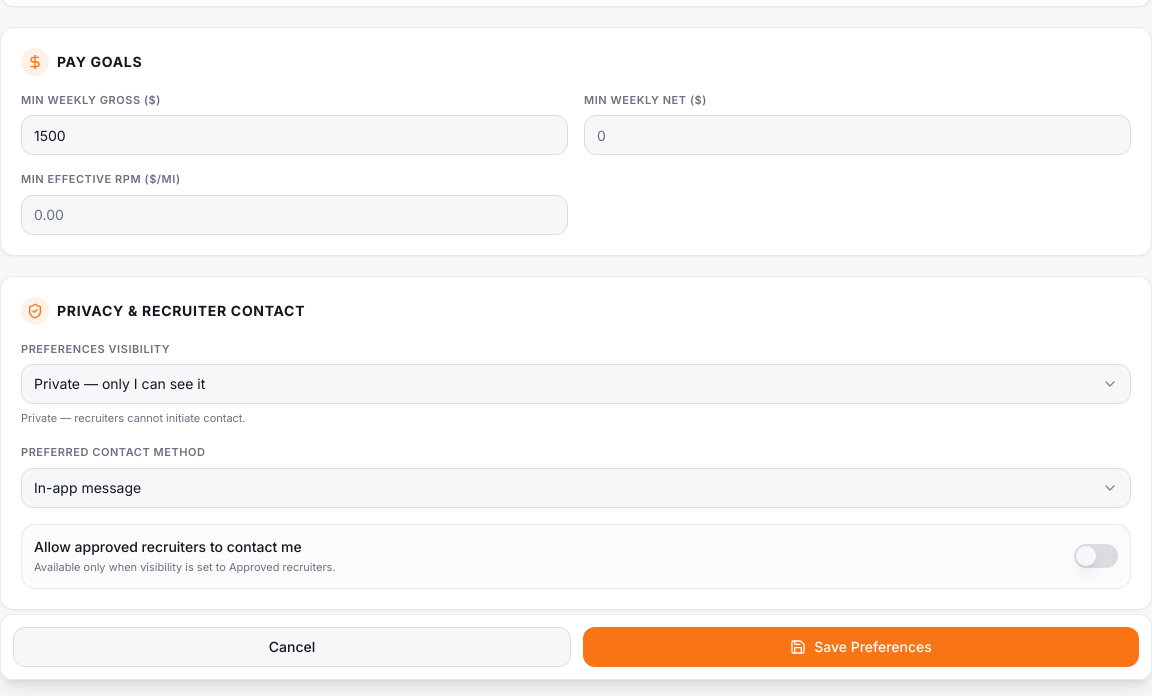
Test case: Phase 1N-C · Fail-closed recruiter-contact privacy › verified_recruiters does NOT auto-enable the contact toggle
The width and height of the screenshot is (1152, 696).
(page scrolled)
Click the dropdown labelled "Private — only I can see it" at [120, 384], box left=21, top=364, right=1131, bottom=404
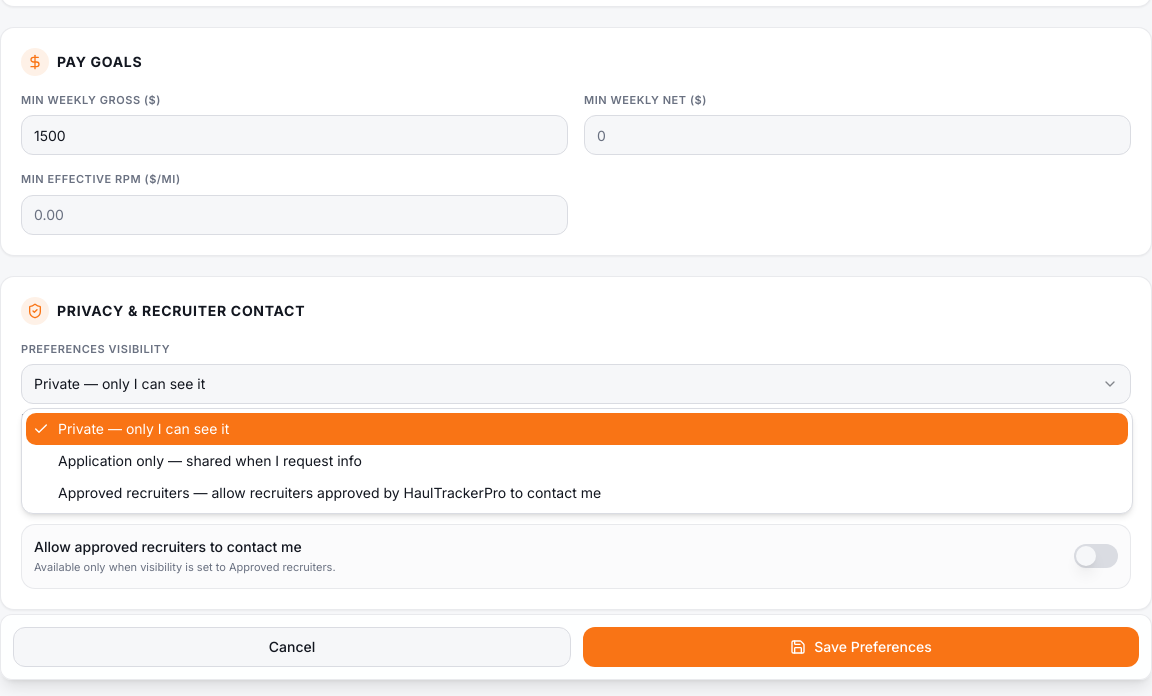
Click the option "Approved recruiters" at [330, 492], box left=58, top=484, right=601, bottom=501
(page scrolled)
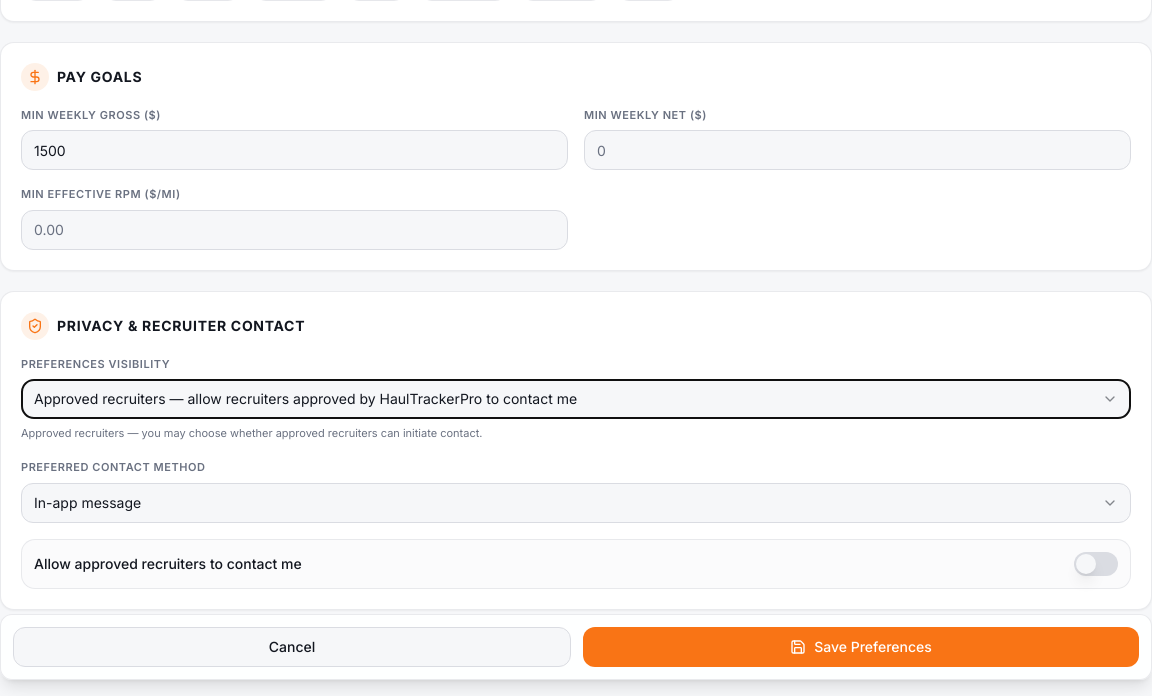
Now the switch named "Allow approved recruiters to contact me" is enabled, box left=1074, top=552, right=1118, bottom=576
